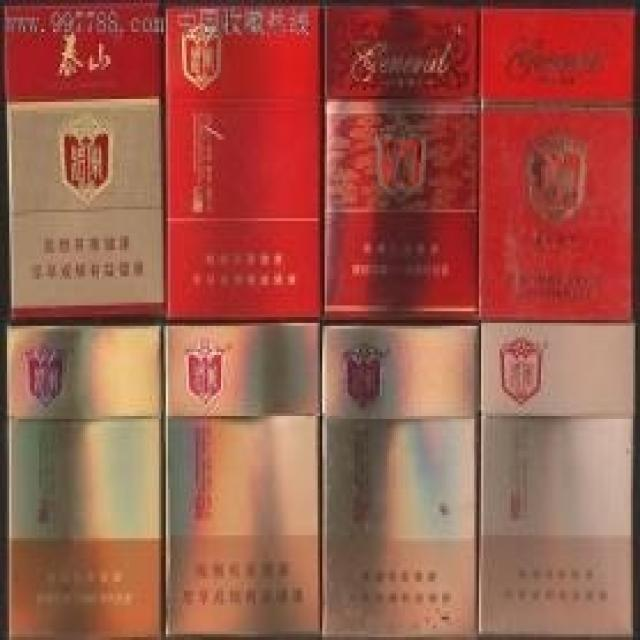box: (2, 3, 163, 323), (479, 320, 638, 637), (320, 323, 479, 640), (163, 320, 320, 637), (7, 323, 163, 640), (479, 6, 635, 320), (166, 6, 322, 320), (325, 6, 479, 323)
